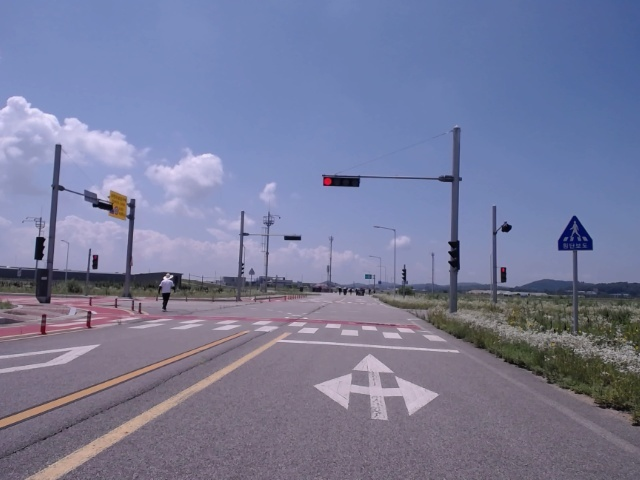red_4: (323, 177, 360, 187)
